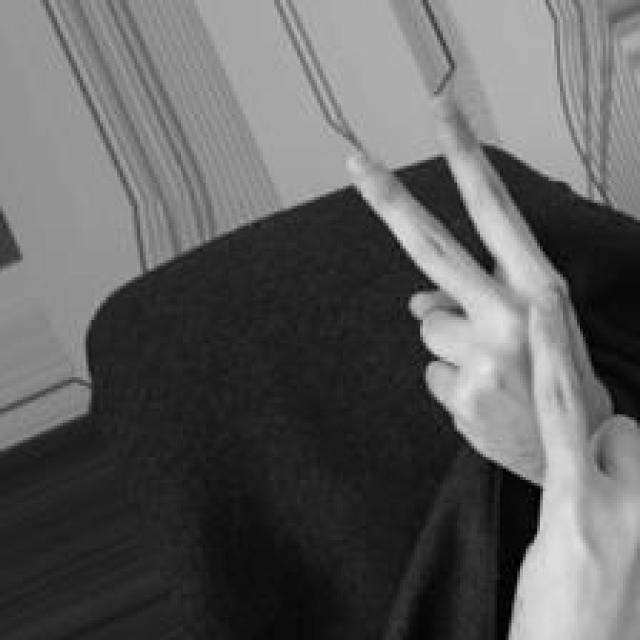Y: (334, 86, 640, 640)
